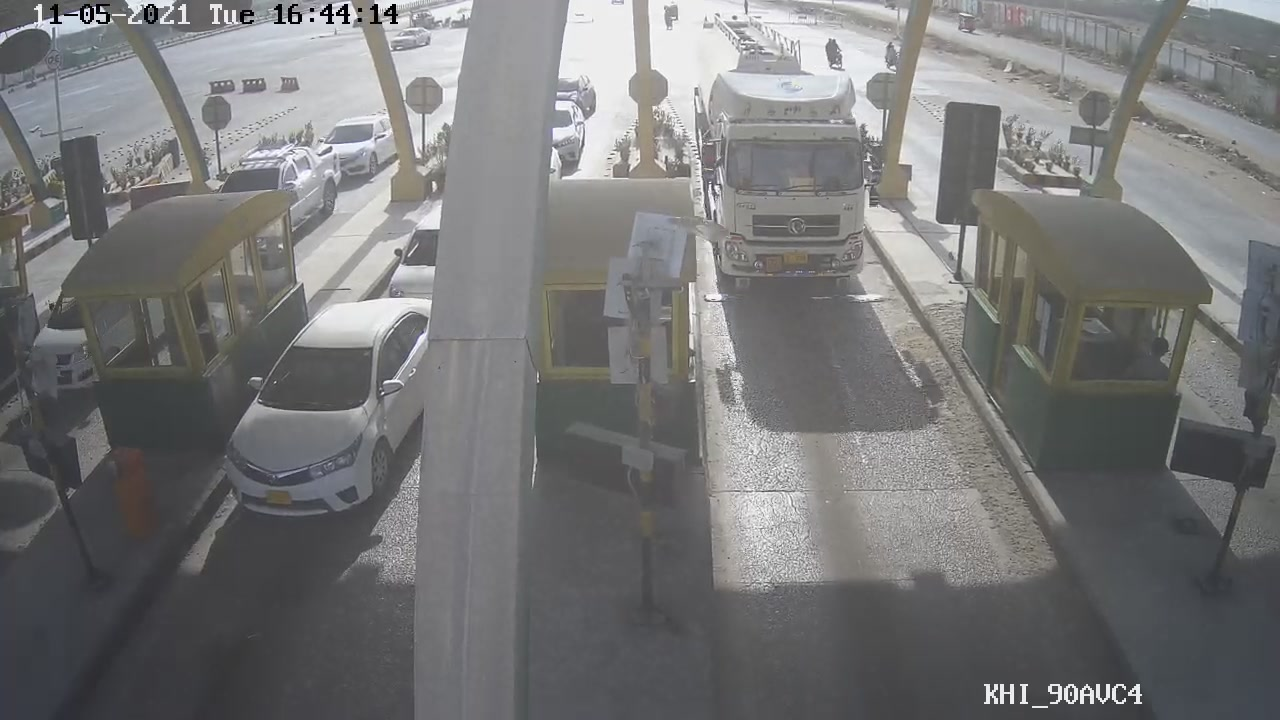F6: (692, 6, 881, 292)
